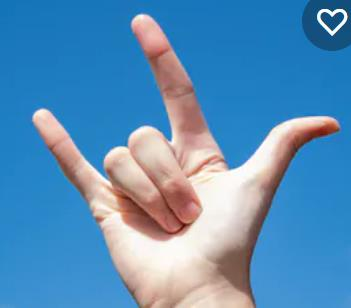back: (29, 11, 341, 302)
